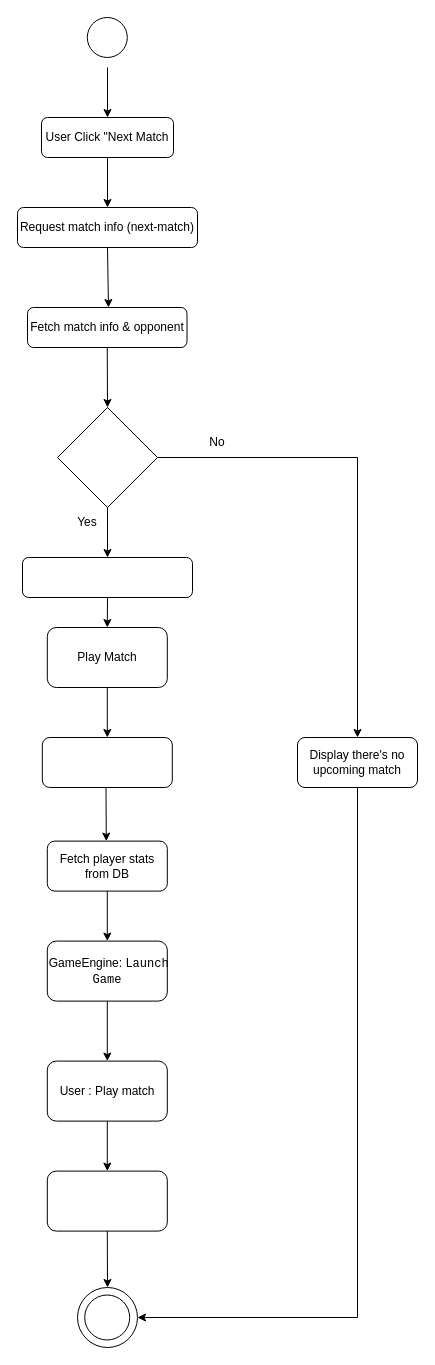
The diagram is 435 pixels wide and 1365 high, and some of its shapes have lost their labels. The shapes that lost their labels are listed below. From the top down, each one's box as (x1, y1, x2, y2) in pixels, then its label:
(56, 406, 158, 508): If there's Next Match
(22, 556, 192, 598): UI shows popup with 3 choices
(41, 736, 172, 788): Initialize Play Session
(46, 1170, 167, 1231): Save result + update league table
